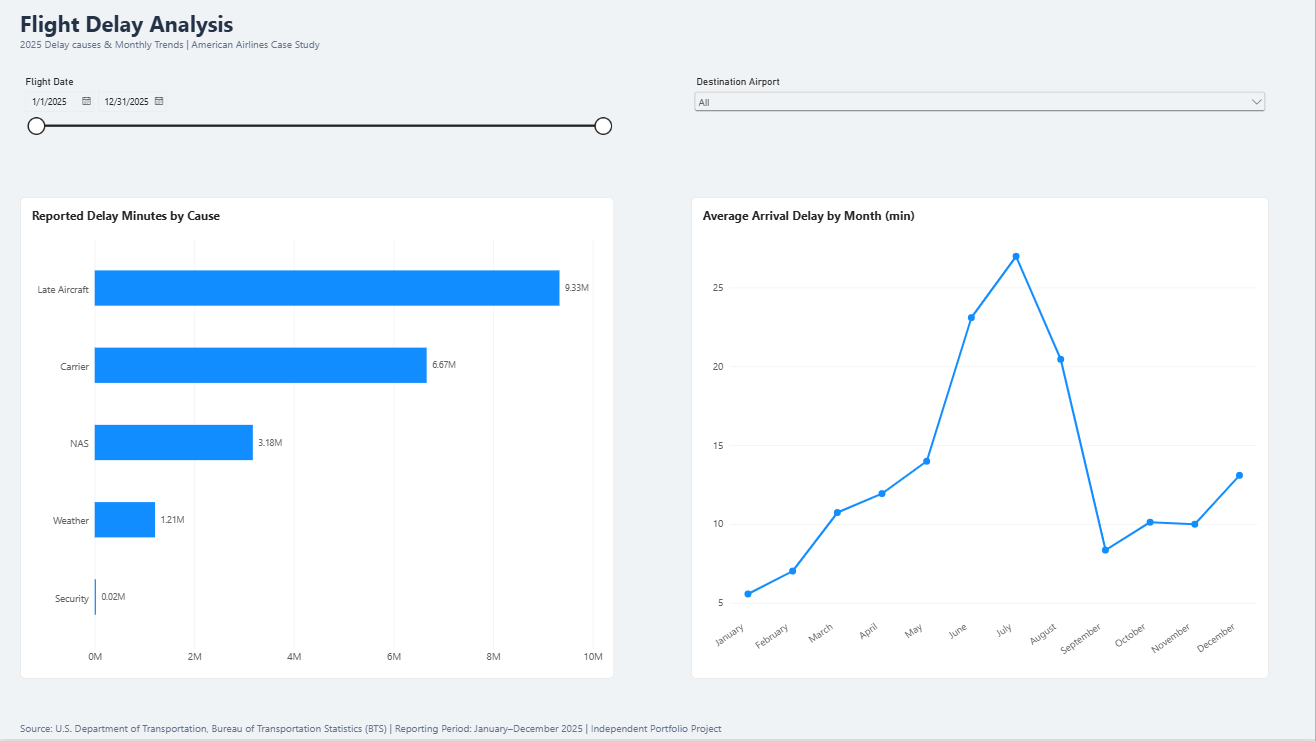

Layout of this report page (visuals, bound fields, positions):
{"tool":"powerbi","page":{"name":"Delay Analysis","canvas":[1920,1080],"ordinal":2},"visuals":[{"type":"clusteredBarChart","title":"Reported Delay Minutes by Cause ","fields":{"Category":["Delay Categories.Delay Cause"],"Y":["AA_Flights.Delay Minutes by Cause"]},"box":[30.6,288.9,866.6,703.2],"z":0},{"type":"lineChart","title":"Average Arrival Delay by Month (min)","fields":{"Category":["AA_Flights.FL_DATE.Variation.Date Hierarchy.Year","AA_Flights.FL_DATE.Variation.Date Hierarchy.Quarter","AA_Flights.FL_DATE.Variation.Date Hierarchy.Month","AA_Flights.FL_DATE.Variation.Date Hierarchy.Day"],"Y":["AA_Flights.Average Arrival Delay"]},"box":[1009.6,288.9,843.3,703.2],"z":1000},{"type":"slicer","fields":{"Values":["AA_Flights.FL_DATE"]},"box":[30.6,112.3,866.6,144.4],"z":2000},{"type":"slicer","fields":{"Values":["AA_Flights.DEST"]},"box":[1009.6,112.3,843.3,72.9],"z":3000},{"type":"textbox","box":[30.6,13.1,929.4,68.6],"z":4000},{"type":"textbox","box":[30.6,958.5,1056.3,121.1],"z":5000}]}

Visuals, with their boxes in screenshot pixels (x1, y1, x2, y2), scaled from the page's 1920x1080 canvas onto the 1316x741 screenshot:
"Reported Delay Minutes by Cause " clusteredBarChart: x1=21, y1=198, x2=615, y2=681
"Average Arrival Delay by Month (min)" lineChart: x1=692, y1=198, x2=1270, y2=681
slicer - AA_Flights.FL_DATE: x1=21, y1=77, x2=615, y2=176
slicer - AA_Flights.DEST: x1=692, y1=77, x2=1270, y2=127
textbox: x1=21, y1=9, x2=658, y2=56
textbox: x1=21, y1=658, x2=745, y2=740
